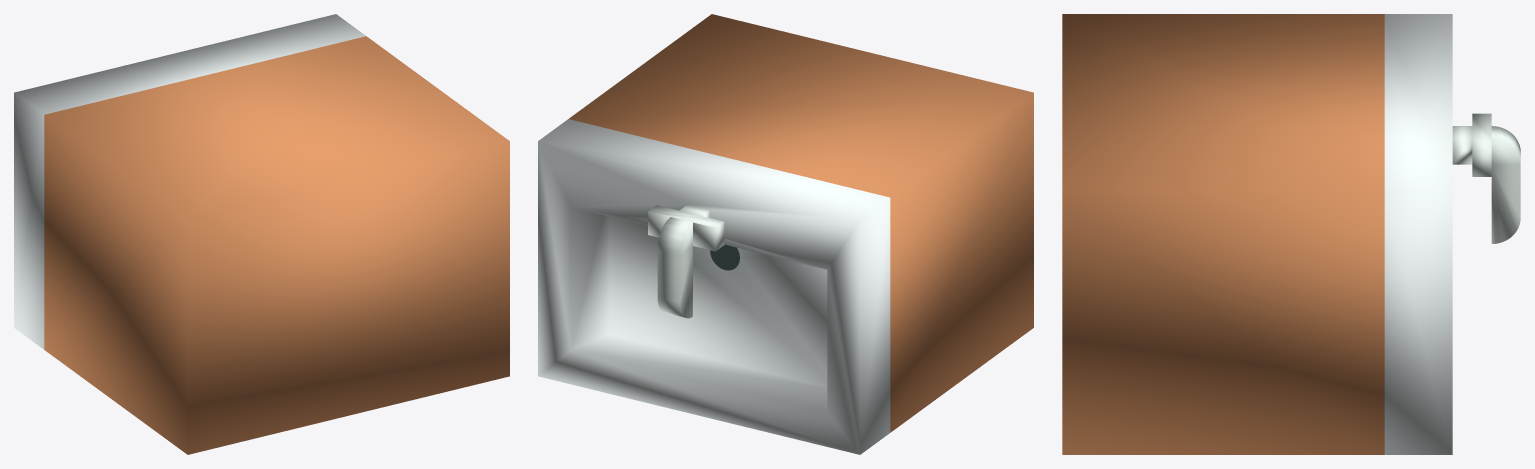
Rendered from bathroomCabinetDrawer.obj.
3 renders of one model, left to right at view 1: azimuth 30°, elevation 25°; view 2: azimuth 150°, elevation 25°; view 3: azimuth 270°, elevation 25°, orthographic. The views are drawn at different scales.
Parts seen in each view (by area): view 1: bathroomCabinetDrawer; view 2: bathroomCabinetDrawer; view 3: bathroomCabinetDrawer.
Boxes of the visible parts, x1,y1,x2,y2 form: bathroomCabinetDrawer: (14, 14, 509, 454); bathroomCabinetDrawer: (538, 14, 1033, 454); bathroomCabinetDrawer: (1062, 14, 1520, 454).
Bounding box in the file's own units: 0.43 × 0.32 × 0.4718.
